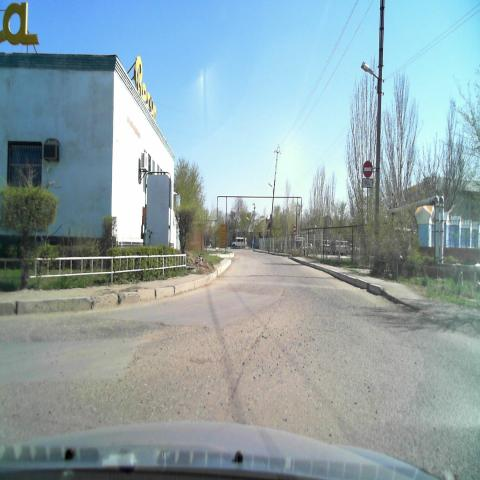3_1: (362, 159, 372, 177)
